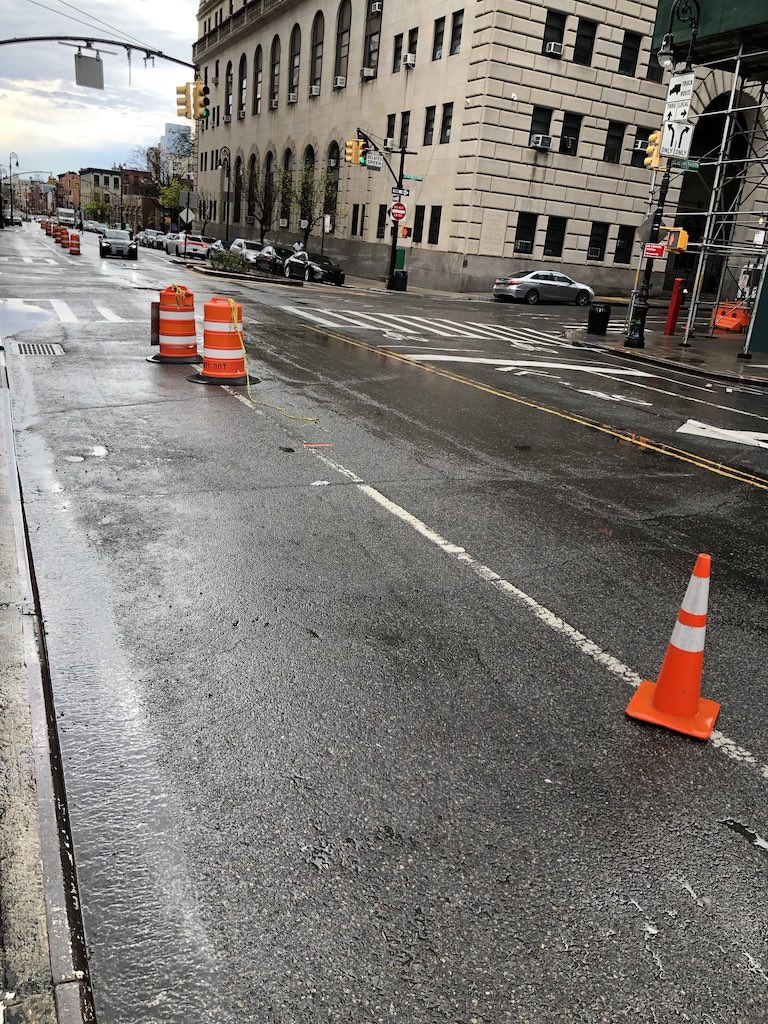building: (195, 13, 757, 292)
car: (487, 253, 597, 309), (283, 240, 346, 289), (85, 225, 141, 259)
crosswalk: (29, 283, 610, 374)
street: (9, 236, 768, 1024)
traffic cone: (614, 538, 728, 744), (193, 289, 257, 394), (143, 278, 200, 364)
